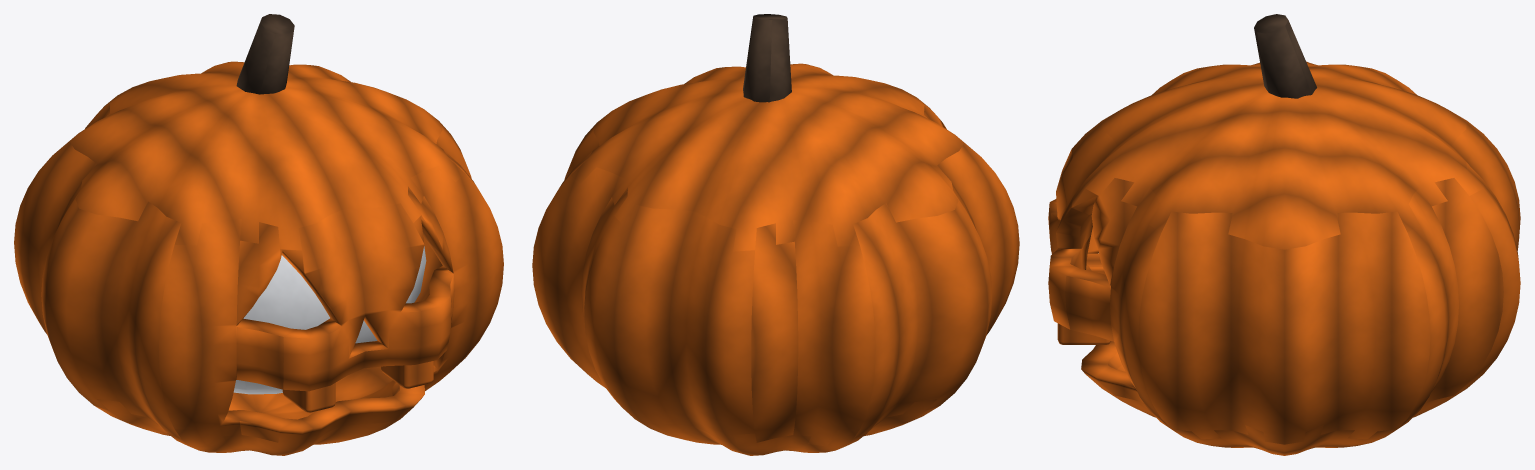
Rendered from Pumpkin.fbx.
3 renders of one model, left to right at view 1: azimuth 30°, elevation 25°; view 2: azimuth 150°, elevation 25°; view 3: azimuth 270°, elevation 25°, orthographic.
Parts seen in each view (by area): view 1: Pumpkin_Pumpkin, Pumpkin_PlasticWhite_glow.004, Pumpkin_Bark; view 2: Pumpkin_Pumpkin, Pumpkin_Bark; view 3: Pumpkin_Pumpkin, Pumpkin_Bark.
Boxes of the visible parts, x1,y1,x2,y2 form: Pumpkin_Pumpkin: (14,61,503,455); Pumpkin_PlasticWhite_glow.004: (233,246,426,394); Pumpkin_Bark: (236,14,294,94); Pumpkin_Pumpkin: (532,63,1019,455); Pumpkin_Bark: (743,14,791,102); Pumpkin_Pumpkin: (1048,61,1520,455); Pumpkin_Bark: (1254,14,1316,98).
Size of the model in its own units: 278 by 258 by 265.
Materials: 3 (3 with a texture image).
